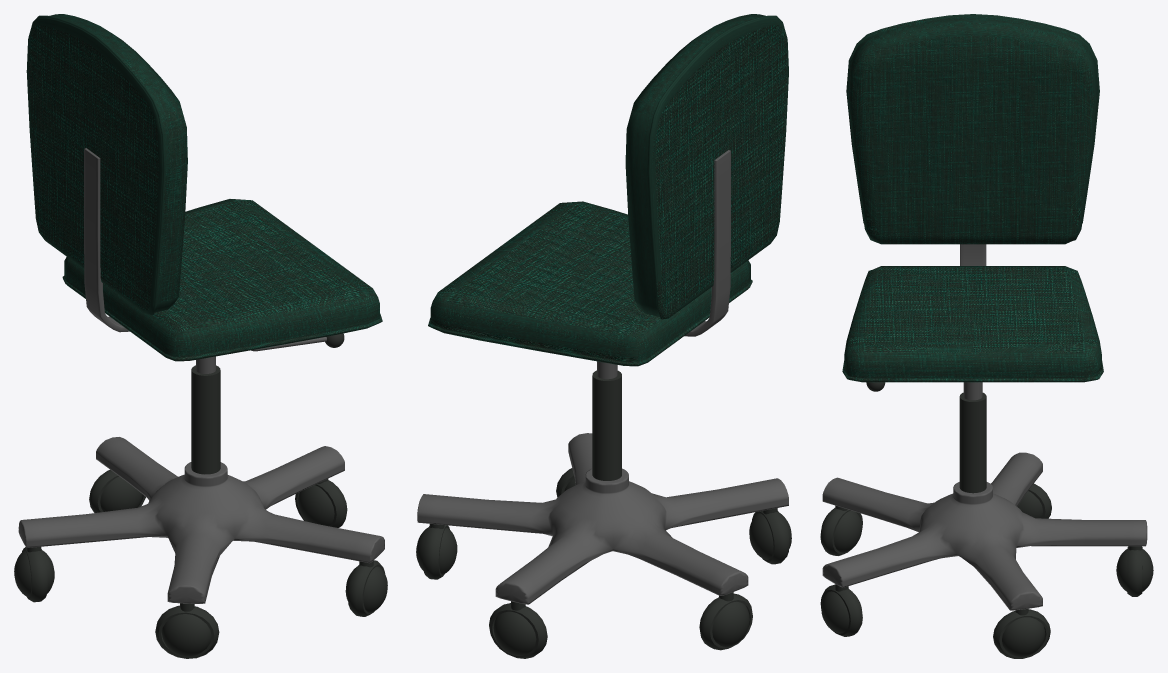
The model's file is chair.fbx.
The picture shows the model from 3 angles, left to right: view 1: azimuth 30°, elevation 25°; view 2: azimuth 150°, elevation 25°; view 3: azimuth 270°, elevation 25°; orthographic projection. The views are drawn at different scales.
Parts seen in each view (by area): view 1: Seat1, Seat, MainWheelStuff, StolStangUnder, BagStang, Wheel4, Wheel2, Wheel5, Wheel3, Wheel1; view 2: Seat1, Seat, MainWheelStuff, BagStang, StolStangUnder, Wheel1, Wheel3, Wheel4, Wheel2; view 3: Seat1, Seat, MainWheelStuff, StolStangUnder, Wheel2, Wheel5, Wheel4, Wheel1, Wheel3, BagStang.
Part boxes in pixels (x1,y1,x2,y2): Seat1: (26,14,187,314); Seat: (62,199,382,361); MainWheelStuff: (18,437,384,603); StolStangUnder: (191,365,220,474); BagStang: (84,148,129,332); Wheel4: (155,603,219,658); Wheel2: (295,479,347,527); Wheel5: (345,560,387,616); Wheel3: (14,547,54,602); Wheel1: (89,470,145,512); Seat1: (625,14,788,319); Seat: (428,201,752,366); MainWheelStuff: (417,433,788,604); BagStang: (684,150,730,336); StolStangUnder: (592,370,621,480); Wheel1: (489,601,547,658); Wheel3: (699,592,752,650); Wheel4: (749,508,791,564); Wheel2: (416,524,457,579); Seat1: (846,14,1099,244); Seat: (842,266,1103,382); MainWheelStuff: (822,452,1147,610); StolStangUnder: (959,392,986,493); Wheel2: (993,608,1050,658); Wheel5: (820,584,862,636); Wheel4: (820,505,862,555); Wheel1: (1116,546,1153,596); Wheel3: (1017,483,1051,518); BagStang: (960,244,986,265).
Size of the model in its own units: 55.74 by 95.1 by 54.1.
Materials: 5 (2 with a texture image).
